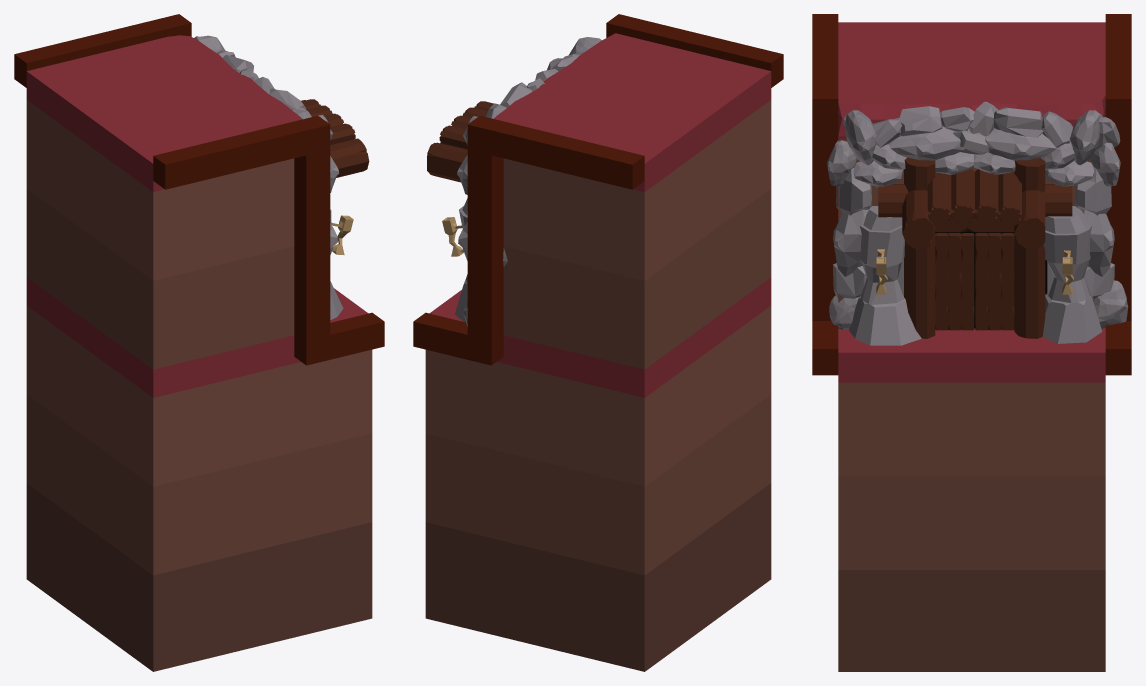
File: Plano12.fbx
The picture shows the model from 3 angles, left to right: view 1: azimuth 30°, elevation 25°; view 2: azimuth 150°, elevation 25°; view 3: azimuth 270°, elevation 25°; orthographic projection. The views are drawn at different scales.
Parts seen in each view (by area): view 1: Plane.060, Plane.062, Plane.063, Cube.058, Plane.061, Cube.057, Cube.1722, Portal Pedras, Portao, Cylinder.006; view 2: Plane.060, Plane.062, Plane.063, Cube.058, Plane.061, Cube.057, Cube.1722, Portal Pedras, Portao, Cylinder.006; view 3: Plane.060, Portal Pedras, Plane.063, Plane.061, Portao, 2Pedras.009, Cube.057, Cylinder.006, Cube.058, Cube.053, Cube.055, Cube.1722 (+2 smaller).
Part boxes in pixels (<box>): Plane.060: <box>26,306,372,671</box>; Plane.062: <box>26,100,294,369</box>; Plane.063: <box>26,35,302,191</box>; Cube.058: <box>14,20,306,189</box>; Plane.061: <box>26,277,368,397</box>; Cube.057: <box>155,14,330,340</box>; Cube.1722: <box>294,312,384,365</box>; Portal Pedras: <box>194,35,339,254</box>; Portao: <box>301,100,369,177</box>; Cylinder.006: <box>301,99,355,144</box>; Plane.060: <box>425,306,771,671</box>; Plane.062: <box>503,100,771,369</box>; Plane.063: <box>494,33,771,191</box>; Cube.058: <box>491,20,783,189</box>; Plane.061: <box>429,277,771,397</box>; Cube.057: <box>467,14,642,340</box>; Cube.1722: <box>413,312,503,365</box>; Portal Pedras: <box>457,37,601,326</box>; Portao: <box>427,142,467,182</box>; Cylinder.006: <box>439,101,493,149</box>; Plane.060: <box>838,382,1105,671</box>; Portal Pedras: <box>827,101,1128,329</box>; Plane.063: <box>838,22,1105,139</box>; Plane.061: <box>838,328,1105,382</box>; Portao: <box>878,157,1072,338</box>; 2Pedras.009: <box>849,206,1102,345</box>; Cube.057: <box>812,86,1131,320</box>; Cylinder.006: <box>927,168,1021,226</box>; Cube.058: <box>812,14,1131,86</box>; Cube.053: <box>975,233,1014,330</box>; Cube.055: <box>935,233,974,330</box>; Cube.1722: <box>812,321,1131,375</box>.
Size of the model in its own units: 899 by 1800 by 955.
